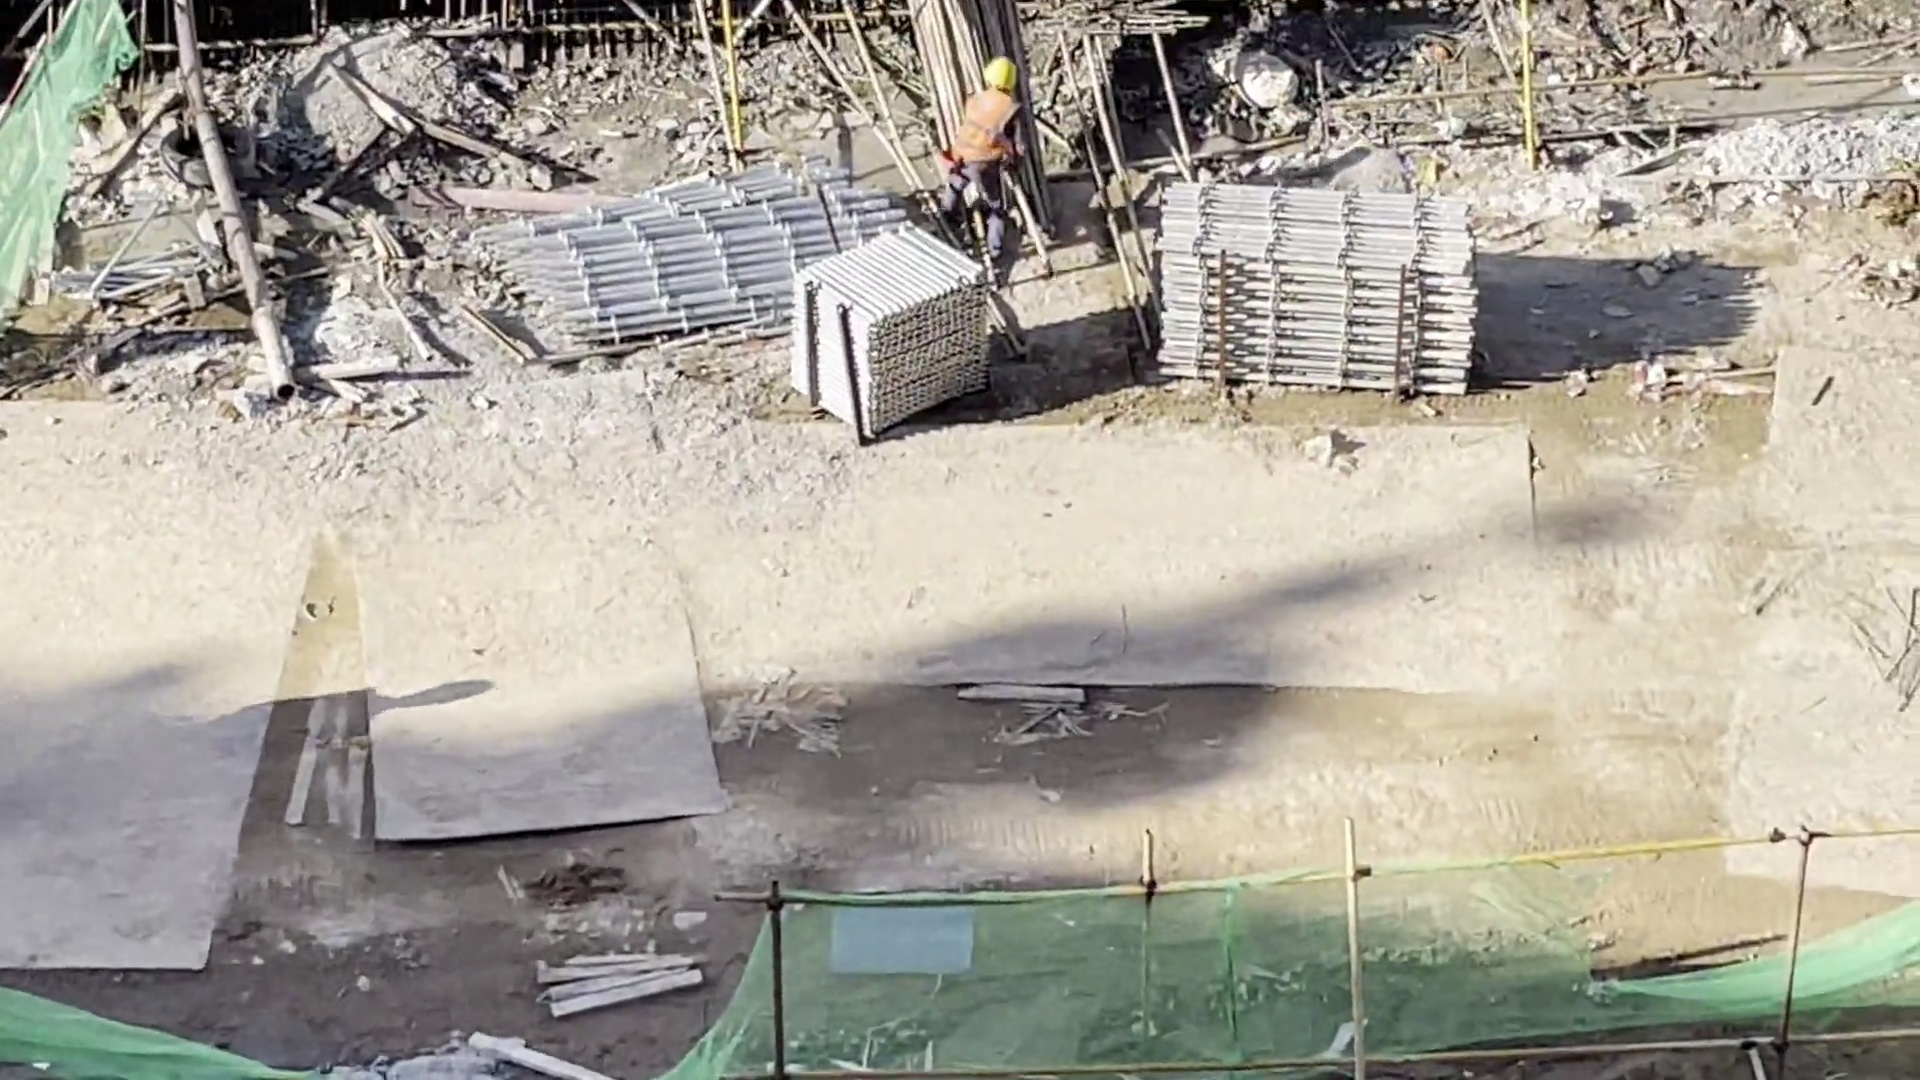helmet: (978, 42, 1025, 93)
person: (945, 50, 1044, 279)
scaffold: (1140, 169, 1494, 416), (482, 165, 921, 343), (785, 217, 1007, 454)
vest: (952, 90, 1021, 168)
